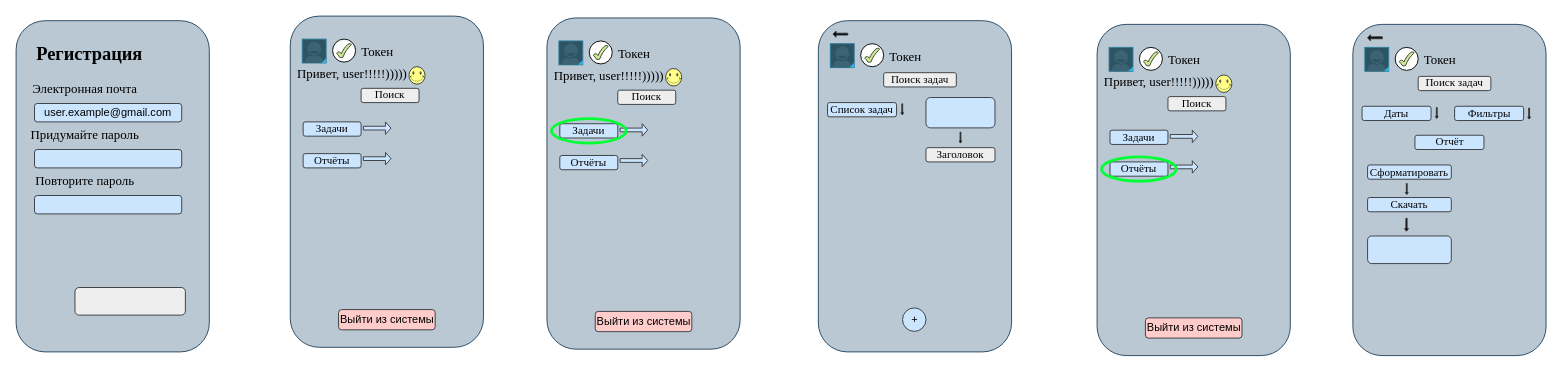
Some shapes in this 1562 by 372 pixel diagram are drawn without their labels. The shapes that lost their labels are listed below. From the top down, each one's centre as x and y in pixels, then its label:
At point 960,112: "Создать новую задачу".
At point 1409,249: "Поделиться ссылкой".
At point 129,301: "Создать аккаунт".
